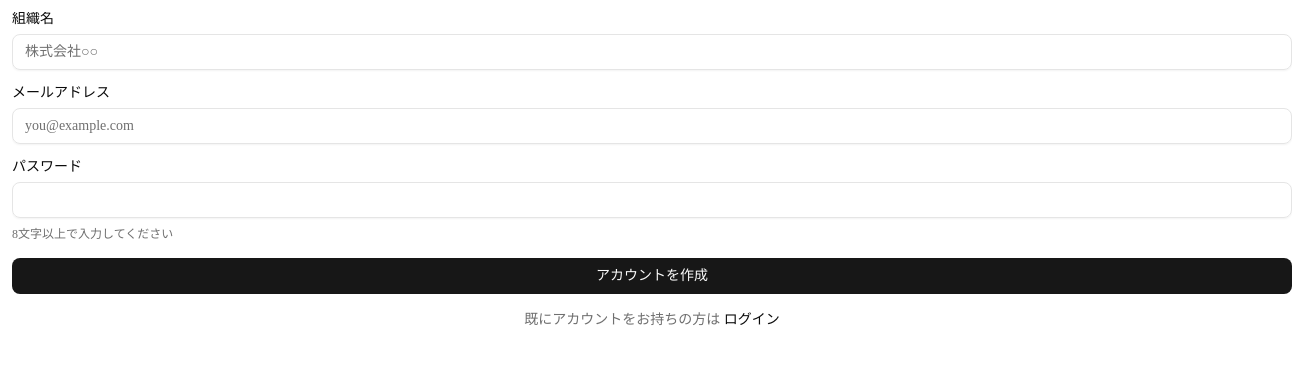
Test: SignupForm › 組織名が未入力のとき、Zod のメッセージを表示する
Type "user@example.com" into the field labelled "メールアドレス" at (652, 126), box [12,108,1292,144]
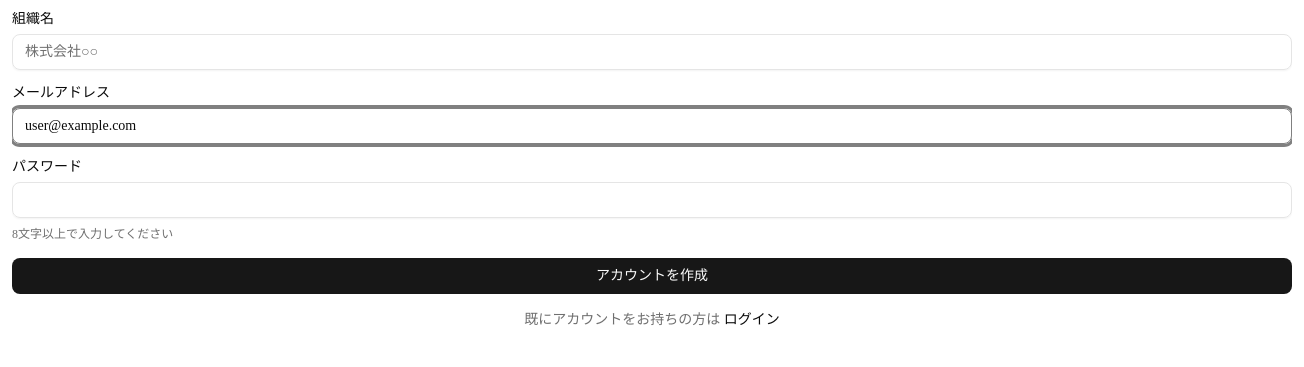
Type "password123" into the password field labelled "パスワード" at (652, 200), box [12,182,1292,218]
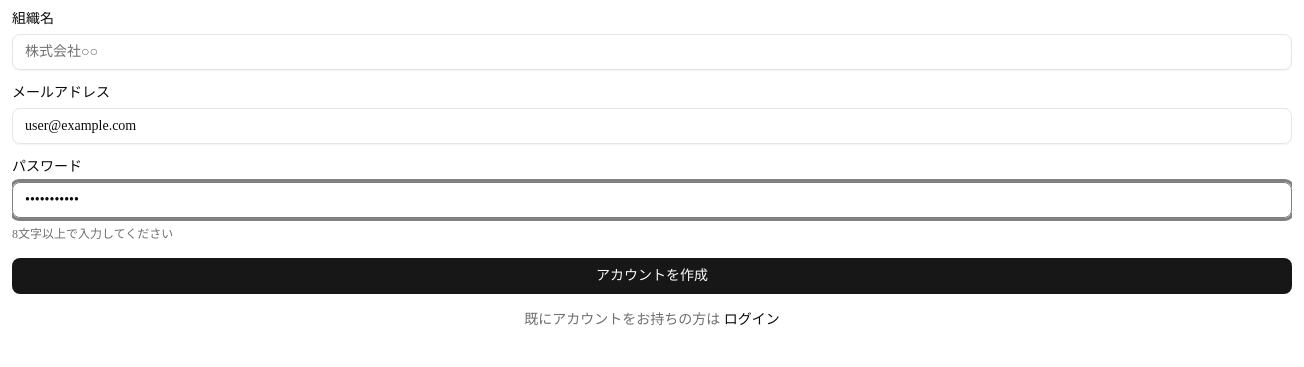
Click the button "アカウントを作成" at (652, 276), box [12,258,1292,294]
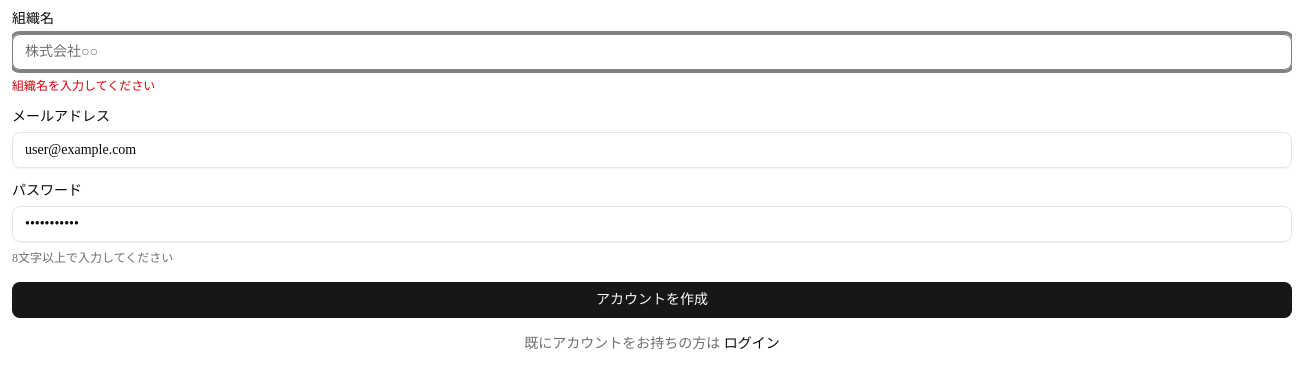
Now the text "組織名を入力してください" is shown, box [12,79,155,93]
